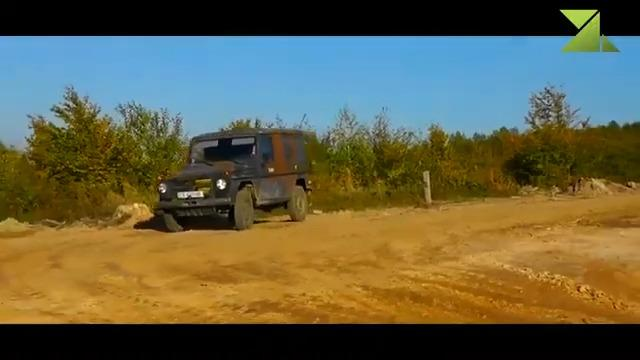MIL_HMMWV: (151, 127, 309, 232)
